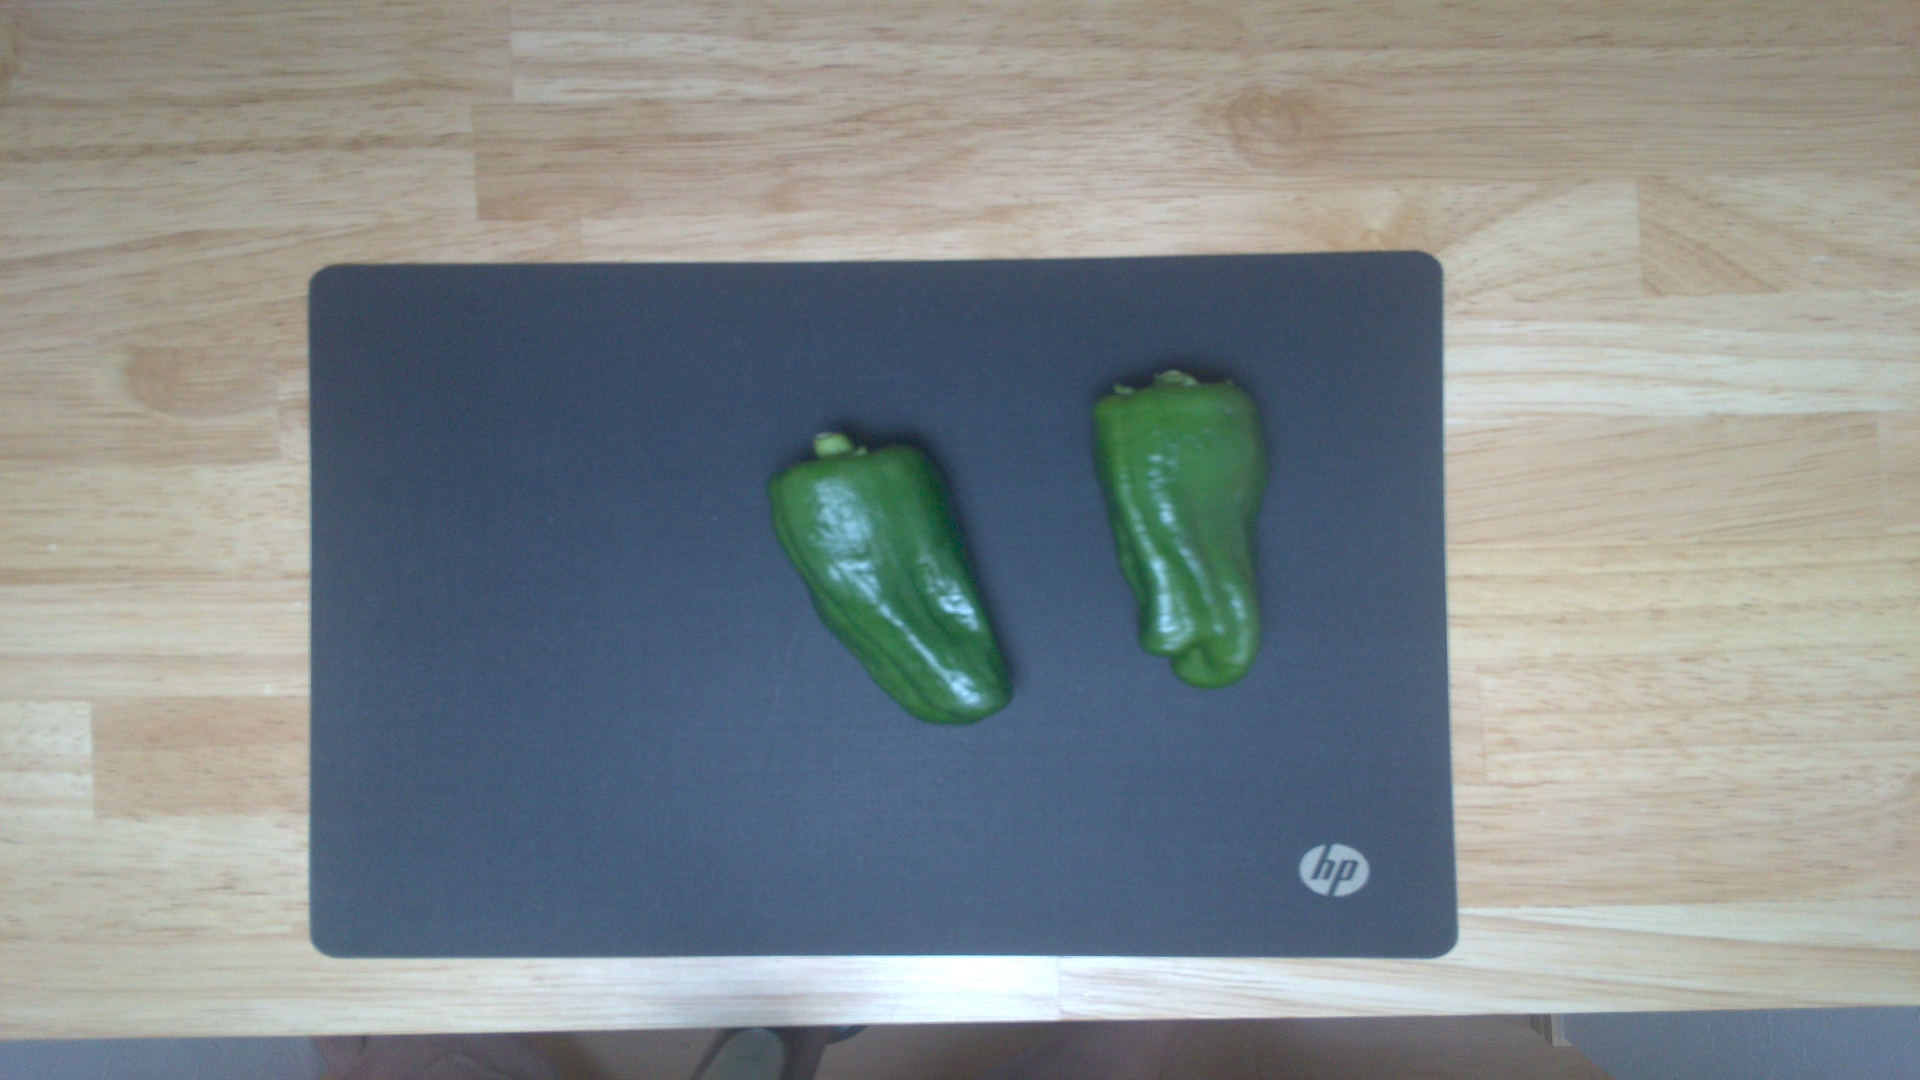Piman: (764, 426, 1014, 727), (1084, 367, 1280, 688)
